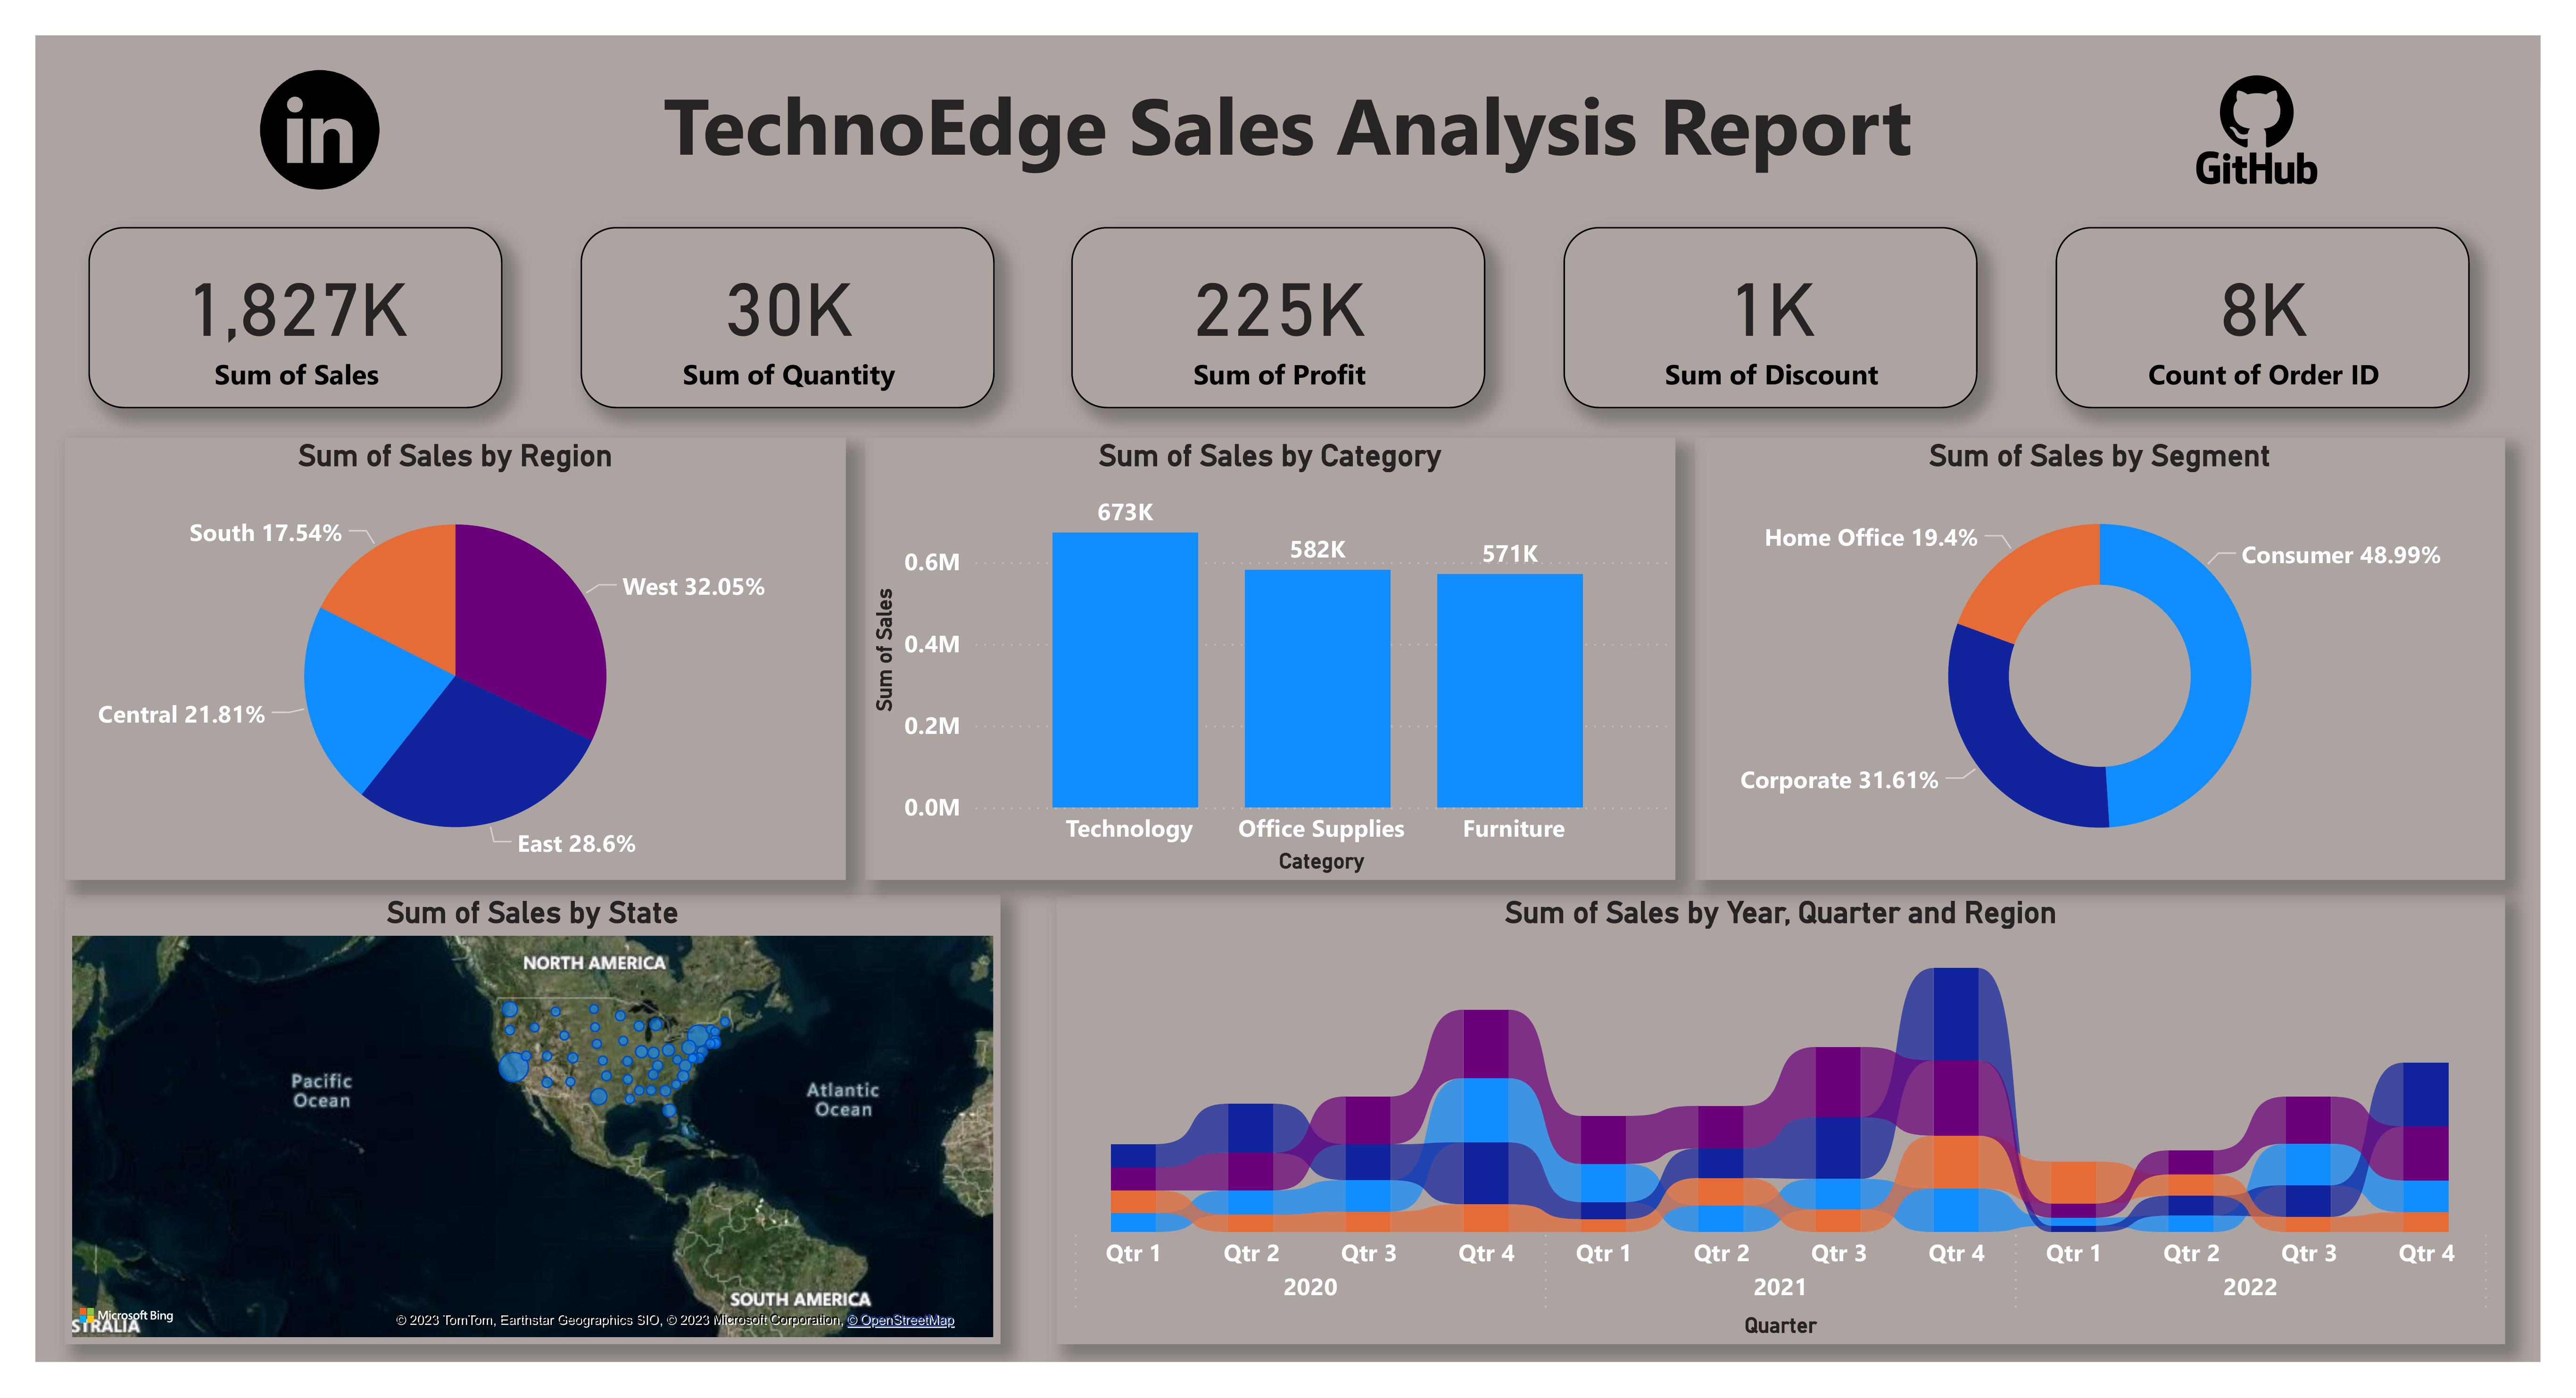

What the dashboard file says about the page in this screenshot:
{"tool":"powerbi","page":{"name":"Page 1","canvas":[1700,900],"ordinal":0},"visuals":[{"type":"pieChart","fields":{"Category":["Monthly Sales Data.Region"],"Y":["Sum(Monthly Sales Data.Sales)"]},"box":[20,273.3,529.8,299.9],"z":0},{"type":"donutChart","fields":{"Category":["Monthly Sales Data.Segment"],"Y":["Sum(Monthly Sales Data.Sales)"]},"box":[1126.3,273.3,550,299.9],"z":1000},{"type":"clusteredColumnChart","fields":{"Category":["Monthly Sales Data.Category"],"Y":["Sum(Monthly Sales Data.Sales)"]},"box":[563.2,273.3,550,300],"z":2000},{"type":"ribbonChart","fields":{"Category":["Monthly Sales Data.Order Date.Variation.Date Hierarchy.Year","Monthly Sales Data.Order Date.Variation.Date Hierarchy.Quarter","Monthly Sales Data.Order Date.Variation.Date Hierarchy.Month","Monthly Sales Data.Order Date.Variation.Date Hierarchy.Day"],"Y":["Sum(Monthly Sales Data.Sales)"],"Series":["Monthly Sales Data.Region"]},"box":[693.1,583.2,983,304.9],"z":3000},{"type":"textbox","box":[341,18.3,1018,98.3],"z":4000},{"type":"map","fields":{"Category":["Monthly Sales Data.State"],"Size":["Sum(Monthly Sales Data.Sales)"]},"box":[20,583.2,634.8,304.9],"z":5000},{"type":"card","fields":{"Values":["Sum(Monthly Sales Data.Sales)"]},"box":[36.1,130.2,281,123],"z":6000},{"type":"card","fields":{"Values":["Sum(Monthly Sales Data.Quantity)"]},"box":[369.7,130.2,281,123],"z":7000},{"type":"card","fields":{"Values":["Sum(Monthly Sales Data.Profit)"]},"box":[703.4,130.2,281,123],"z":8000},{"type":"card","fields":{"Values":["Sum(Monthly Sales Data.Discount)"]},"box":[1037,130.2,281,123],"z":9000},{"type":"card","fields":{"Values":["CountNonNull(Monthly Sales Data.Order ID)"]},"box":[1370.7,130.2,281,123],"z":10000},{"type":"image","box":[1434.6,13.3,145,102],"z":10001},{"type":"image","box":[120,13.3,145,102],"z":10002}]}

Visuals, with their boxes on the page's 1700x900 design canvas (x1, y1, x2, y2). These are canvas units, not pixel positions in the 2576x1398 screenshot, which may show the page scaled, cropped or inside an application window:
pieChart - Monthly Sales Data.Region x Sum(Monthly Sales Data.Sales): (x1=20, y1=273, x2=550, y2=573)
donutChart - Monthly Sales Data.Segment x Sum(Monthly Sales Data.Sales): (x1=1126, y1=273, x2=1676, y2=573)
clusteredColumnChart - Monthly Sales Data.Category x Sum(Monthly Sales Data.Sales): (x1=563, y1=273, x2=1113, y2=573)
ribbonChart - Monthly Sales Data.Order Date.Variation.Date Hierarchy.Year x Monthly Sales Data.Order Date.Variation.Date Hierarchy.Quarter: (x1=693, y1=583, x2=1676, y2=888)
textbox: (x1=341, y1=18, x2=1359, y2=117)
map - Monthly Sales Data.State x Sum(Monthly Sales Data.Sales): (x1=20, y1=583, x2=655, y2=888)
card - Sum(Monthly Sales Data.Sales): (x1=36, y1=130, x2=317, y2=253)
card - Sum(Monthly Sales Data.Quantity): (x1=370, y1=130, x2=651, y2=253)
card - Sum(Monthly Sales Data.Profit): (x1=703, y1=130, x2=984, y2=253)
card - Sum(Monthly Sales Data.Discount): (x1=1037, y1=130, x2=1318, y2=253)
card - CountNonNull(Monthly Sales Data.Order ID): (x1=1371, y1=130, x2=1652, y2=253)
image: (x1=1435, y1=13, x2=1580, y2=115)
image: (x1=120, y1=13, x2=265, y2=115)
